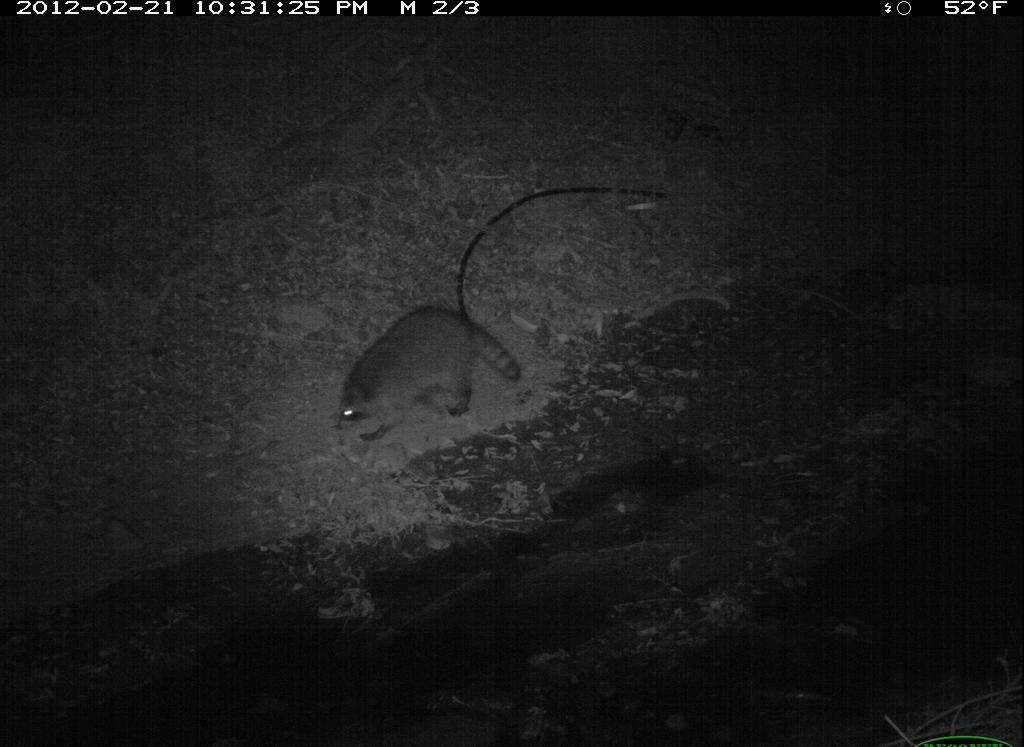raccoon: (329, 300, 523, 455)
